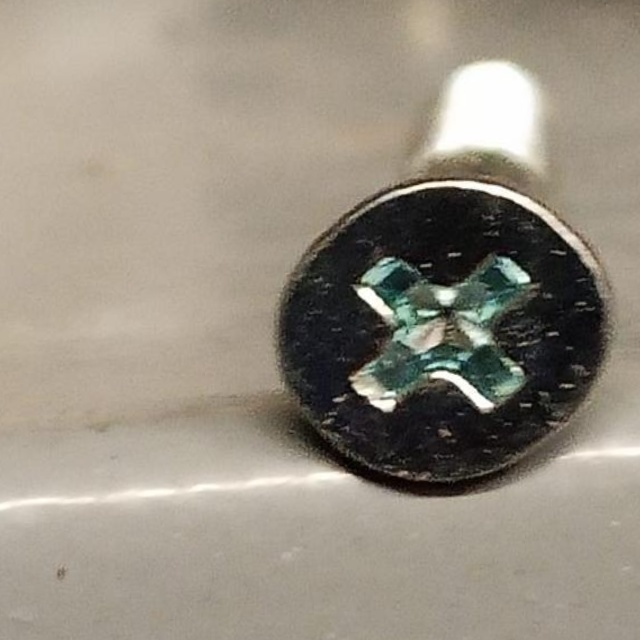phillips: (276, 170, 616, 494)
